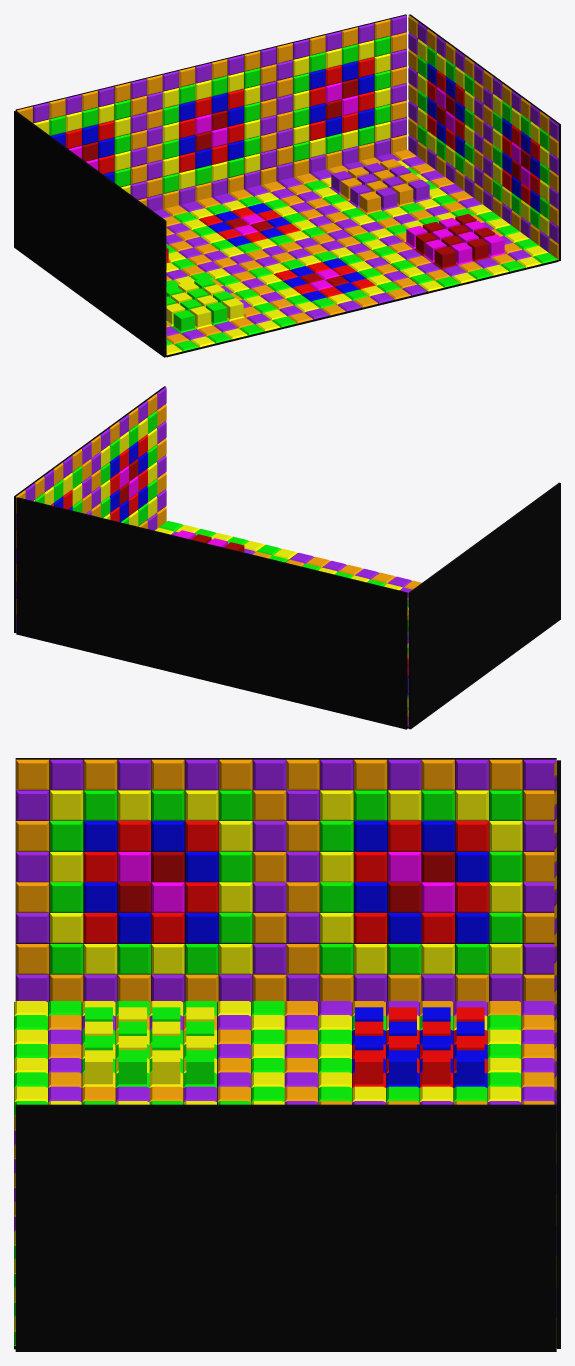
Rendered from Area_ColorRush.fbx.
3 views of the same model, one above another, from view 1: azimuth 30°, elevation 25°; view 2: azimuth 150°, elevation 25°; view 3: azimuth 270°, elevation 25° (orthographic). The views are drawn at different scales.
Visible parts, largest first — view 1: Cube.650, Cube.585, Cube.520, Cube.195, Cube.455, Cube.715, Cube.130, Cube.108, Cube.173, Cube.433; view 2: Cube.455, Cube.520, Cube.195, Cube.585, Cube.650, Cube.780; view 3: Cube.780, Cube.715, Cube.650, Cube.585, Cube.520, Cube.095, Cube.347, Cube.103, Cube.371, Cube.087, Cube.355, Cube.111 (+131 smaller).
Part boxes in pixels (x1,y1,x2,y2): Cube.650: [89, 165, 166, 357]; Cube.585: [14, 110, 90, 301]; Cube.520: [276, 14, 406, 180]; Cube.195: [146, 46, 276, 197]; Cube.455: [15, 78, 146, 199]; Cube.715: [484, 69, 560, 261]; Cube.130: [353, 213, 558, 293]; Cube.108: [172, 310, 195, 333]; Cube.173: [433, 246, 456, 269]; Cube.433: [358, 191, 381, 214]; Cube.455: [276, 560, 407, 729]; Cube.520: [16, 497, 147, 665]; Cube.195: [146, 529, 276, 697]; Cube.585: [408, 538, 485, 729]; Cube.650: [484, 482, 560, 674]; Cube.780: [14, 441, 90, 632]; Cube.780: [285, 1104, 556, 1351]; Cube.715: [15, 1104, 286, 1351]; Cube.650: [15, 758, 286, 1001]; Cube.585: [285, 758, 556, 1001]; Cube.520: [557, 989, 560, 1348]; Cube.095: [149, 1050, 183, 1087]; Cube.347: [453, 1050, 487, 1087]; Cube.103: [116, 1050, 149, 1087]; Cube.371: [352, 1050, 385, 1087]; Cube.087: [183, 1050, 216, 1087]; Cube.355: [420, 1050, 453, 1087]; Cube.111: [82, 1050, 115, 1087].
Size of the model in its own units: 12133 by 3988 by 8050.
